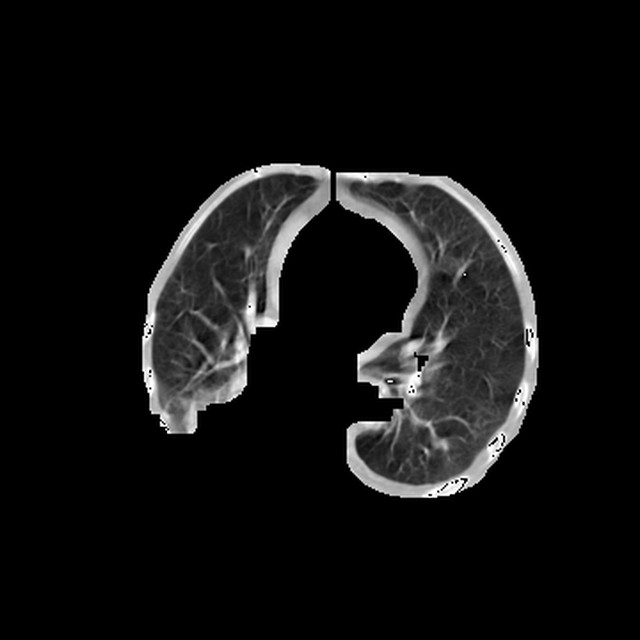PN: (432, 437, 446, 452)
